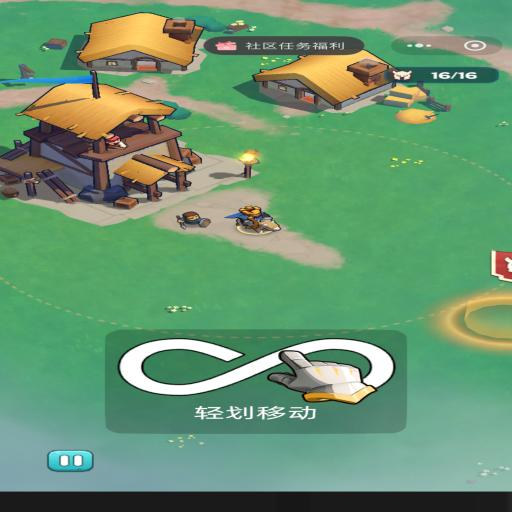newcomer_hand: (266, 349, 378, 403)
